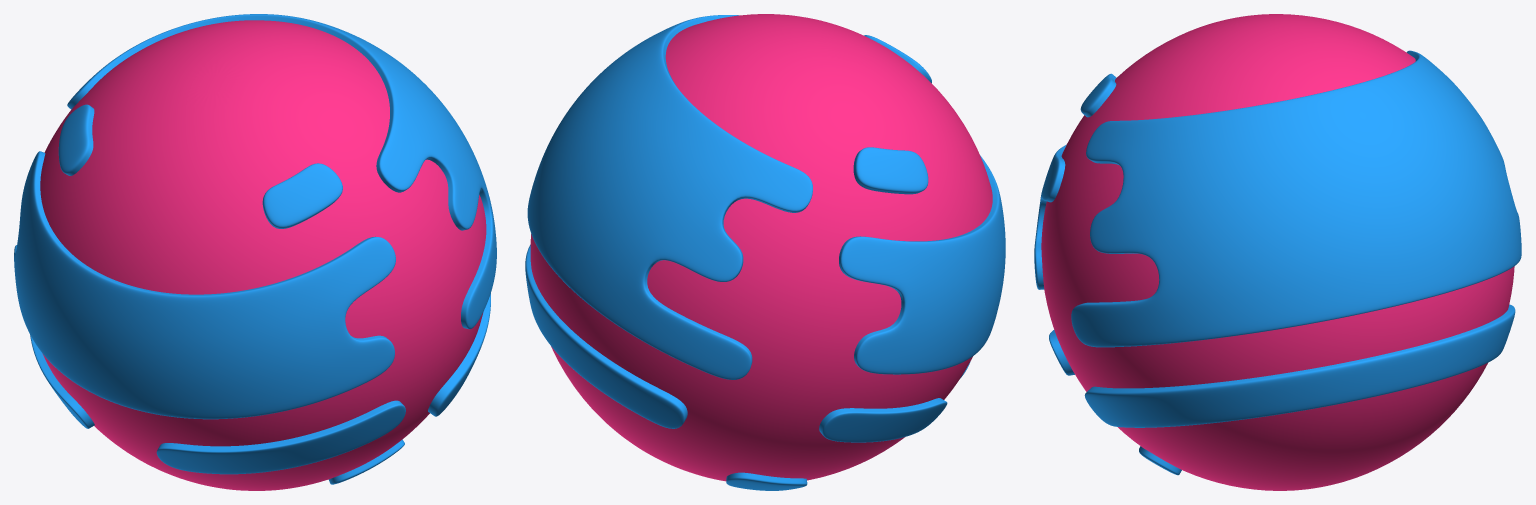
Rendered from planet-2.glb.
The picture shows the model from 3 angles, left to right: view 1: azimuth 30°, elevation 25°; view 2: azimuth 150°, elevation 25°; view 3: azimuth 270°, elevation 25°; orthographic projection.
Parts seen in each view (by area): view 1: Sphere, Sphere.004, Sphere.003, Sphere.002, Sphere.006, Sphere.001, Sphere.005; view 2: Sphere, Sphere.003, Sphere.004, Sphere.001, Sphere.002, Sphere.006, Sphere.005; view 3: Sphere.003, Sphere, Sphere.001, Sphere.004, Sphere.006.
Boxes of the visible parts, x1,y1,x2,y2 form: Sphere: (40, 20, 486, 490); Sphere.004: (14, 151, 395, 419); Sphere.003: (67, 14, 496, 329); Sphere.002: (30, 335, 405, 474); Sphere.006: (58, 104, 342, 228); Sphere.001: (428, 293, 490, 416); Sphere.005: (328, 439, 404, 484); Sphere: (530, 14, 992, 481); Sphere.003: (527, 15, 812, 379); Sphere.004: (839, 155, 1005, 374); Sphere.001: (525, 244, 687, 428); Sphere.002: (819, 362, 970, 442); Sphere.006: (853, 35, 931, 194); Sphere.005: (726, 472, 807, 490); Sphere.003: (1071, 50, 1521, 347); Sphere: (1041, 14, 1514, 490); Sphere.001: (1084, 304, 1515, 427); Sphere.004: (1034, 144, 1066, 289); Sphere.006: (1080, 73, 1116, 117).
Bounding box in the file's own units: 4.98 × 4.89 × 5.
